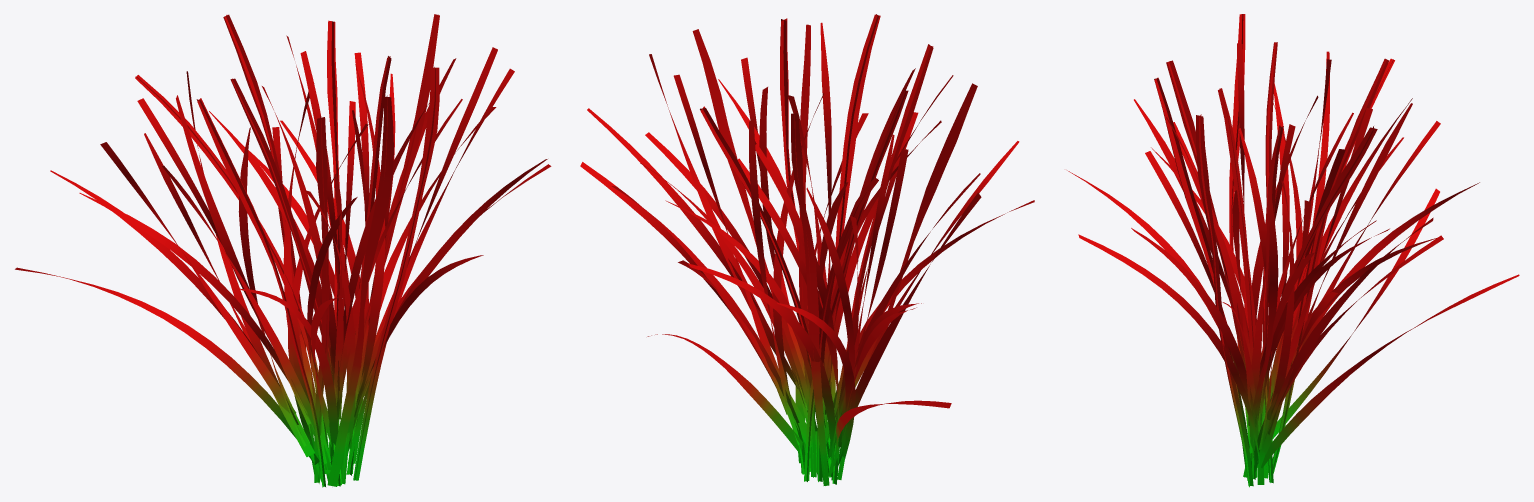
Rendered from SM_Marram_Grass_00.FBX.
3 views of the same model, side by side, from view 1: azimuth 30°, elevation 25°; view 2: azimuth 150°, elevation 25°; view 3: azimuth 270°, elevation 25° (orthographic). The views are drawn at different scales.
Parts seen in each view (by area): view 1: SM_Marram_Grass_00; view 2: SM_Marram_Grass_00; view 3: SM_Marram_Grass_00.
Part boxes in pixels (bbox=[...]): SM_Marram_Grass_00: bbox=[15, 14, 551, 487]; SM_Marram_Grass_00: bbox=[580, 14, 1034, 485]; SM_Marram_Grass_00: bbox=[1067, 14, 1519, 487].
Size of the model in its own units: 125 by 121 by 119.
